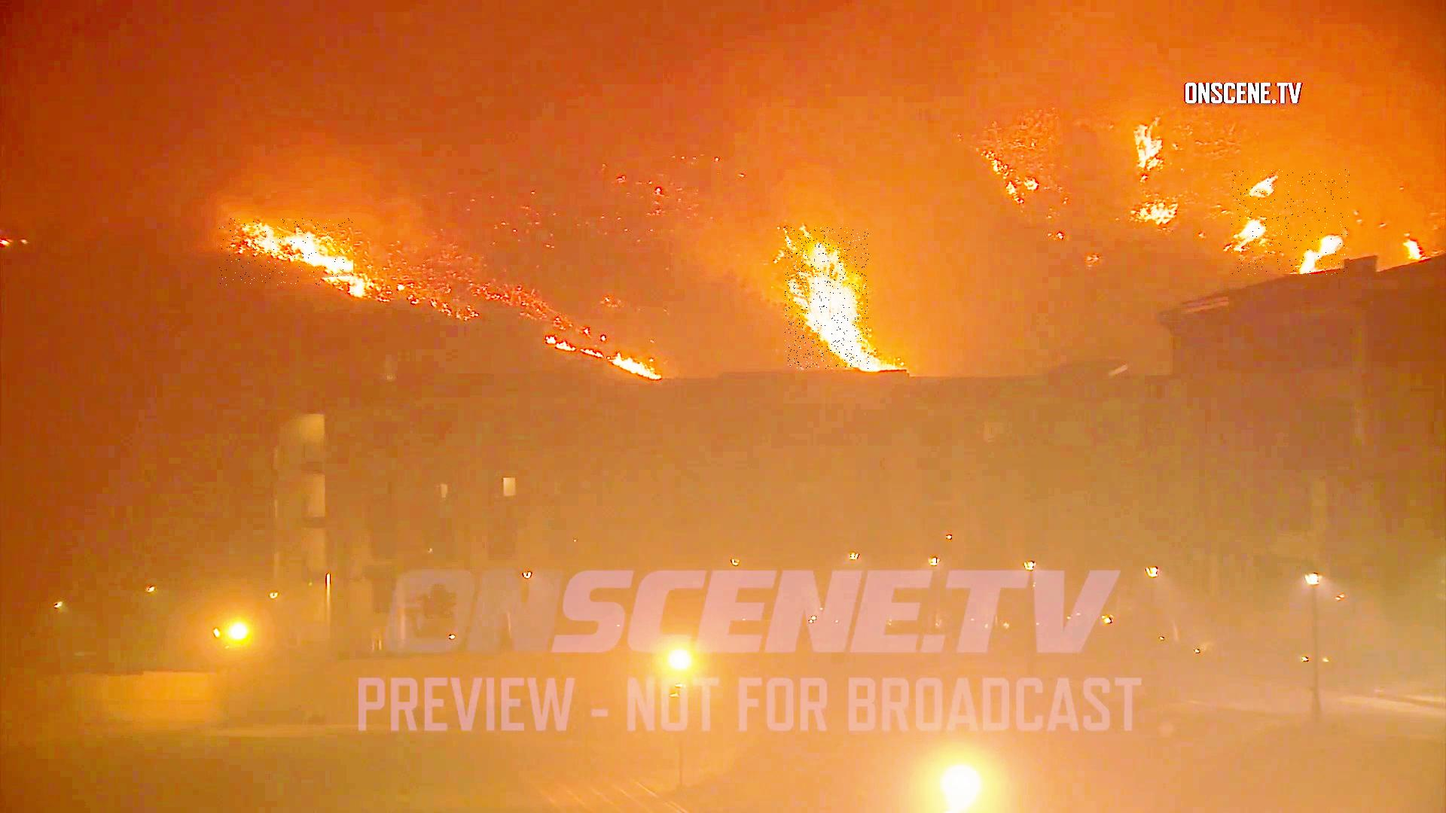fire: (1232, 170, 1350, 276), (785, 228, 870, 369), (219, 218, 353, 285)
